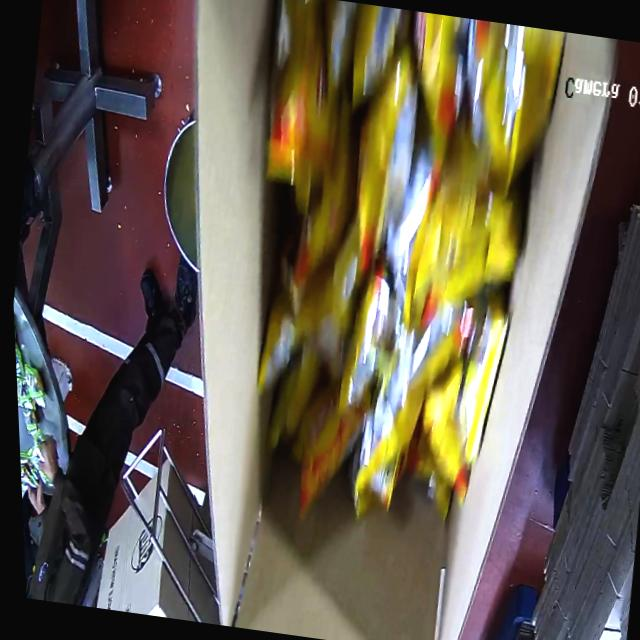SALTED: (205, 0, 593, 555)
